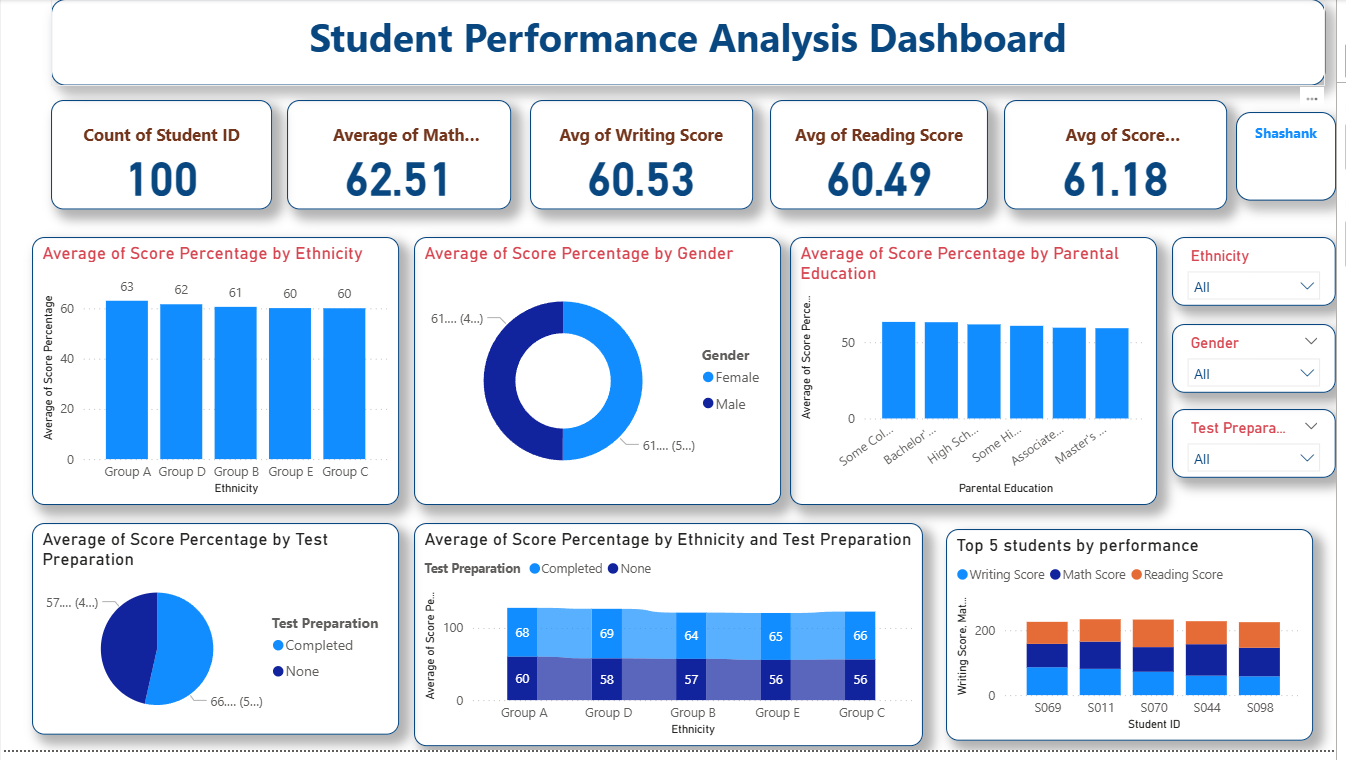

The dashboard page shown, as its layout file describes it:
{"tool":"powerbi","page":{"name":"Page 1","canvas":[1280,720],"ordinal":0},"visuals":[{"type":"textbox","box":[47.9,0,1221.5,83.4],"z":0},{"type":"cardVisual","fields":{"Data":["CountNonNull(Marks.Student ID)"]},"box":[48,96.9,212.1,104.6],"z":1000},{"type":"cardVisual","fields":{"Data":["Avg(Marks.Score Percentage)"]},"box":[961.7,96.8,213.8,104.5],"z":2000},{"type":"cardVisual","fields":{"Data":["Avg(Marks.Reading Score)"]},"box":[736.9,96.9,209.2,104.6],"z":3000},{"type":"cardVisual","fields":{"Data":["Avg(Marks.Writing Score)"]},"box":[507.6,96.9,214,104.6],"z":4000},{"type":"cardVisual","fields":{"Data":["Avg(Marks.Math Score)"]},"box":[274.4,96.9,214.9,104.6],"z":5000},{"type":"slicer","fields":{"Values":["Marks.Ethnicity"]},"box":[1122.8,228.2,157.2,66.2],"z":6000},{"type":"slicer","fields":{"Values":["Marks.Gender"]},"box":[1122.8,311.6,157.2,66.2],"z":7000},{"type":"columnChart","fields":{"Category":["Marks.Ethnicity"],"Y":["Avg(Marks.Score Percentage)"]},"box":[29.7,228.2,351.9,257],"z":8000},{"type":"donutChart","fields":{"Category":["Marks.Gender"],"Y":["Avg(Marks.Score Percentage)"]},"box":[396,228.2,351.9,257],"z":9000},{"type":"columnChart","fields":{"Y":["Avg(Marks.Score Percentage)"],"Category":["Marks.Parental Education"]},"box":[756.5,228.2,351.9,257],"z":10000},{"type":"pieChart","fields":{"Category":["Marks.Test Preparation"],"Y":["Avg(Marks.Score Percentage)"]},"box":[29.7,502.4,351.9,203.3],"z":11000},{"type":"ribbonChart","fields":{"Category":["Marks.Ethnicity"],"Y":["Avg(Marks.Score Percentage)"],"Series":["Marks.Test Preparation"]},"box":[396,502.4,488,213.8],"z":12000},{"type":"slicer","fields":{"Values":["Marks.Test Preparation"]},"box":[1122.8,393.1,157.2,66.2],"z":12001},{"type":"columnChart","title":"Top 5 students by performance","fields":{"Category":["Marks.Student ID"],"Y":["Avg(Marks.Writing Score)","Avg(Marks.Math Score)","Avg(Marks.Reading Score)"]},"box":[906.1,508.2,351.9,203.3],"z":12002},{"type":"textbox","box":[1184.1,108.3,95.9,85.3],"z":12003}]}

Visuals, with their boxes in screenshot pixels (x1, y1, x2, y2), scaled from the page's 1280x720 canvas onto the 1346x760 screenshot:
textbox: <region>50, 0, 1335, 88</region>
cardVisual - CountNonNull(Marks.Student ID): <region>50, 102, 274, 213</region>
cardVisual - Avg(Marks.Score Percentage): <region>1011, 102, 1236, 212</region>
cardVisual - Avg(Marks.Reading Score): <region>775, 102, 995, 213</region>
cardVisual - Avg(Marks.Writing Score): <region>534, 102, 759, 213</region>
cardVisual - Avg(Marks.Math Score): <region>289, 102, 515, 213</region>
slicer - Marks.Ethnicity: <region>1181, 241, 1345, 311</region>
slicer - Marks.Gender: <region>1181, 329, 1345, 399</region>
columnChart - Marks.Ethnicity x Avg(Marks.Score Percentage): <region>31, 241, 401, 512</region>
donutChart - Marks.Gender x Avg(Marks.Score Percentage): <region>416, 241, 786, 512</region>
columnChart - Avg(Marks.Score Percentage) x Marks.Parental Education: <region>796, 241, 1166, 512</region>
pieChart - Marks.Test Preparation x Avg(Marks.Score Percentage): <region>31, 530, 401, 745</region>
ribbonChart - Marks.Ethnicity x Avg(Marks.Score Percentage): <region>416, 530, 930, 756</region>
slicer - Marks.Test Preparation: <region>1181, 415, 1345, 485</region>
"Top 5 students by performance" columnChart: <region>953, 536, 1323, 751</region>
textbox: <region>1245, 114, 1345, 204</region>
